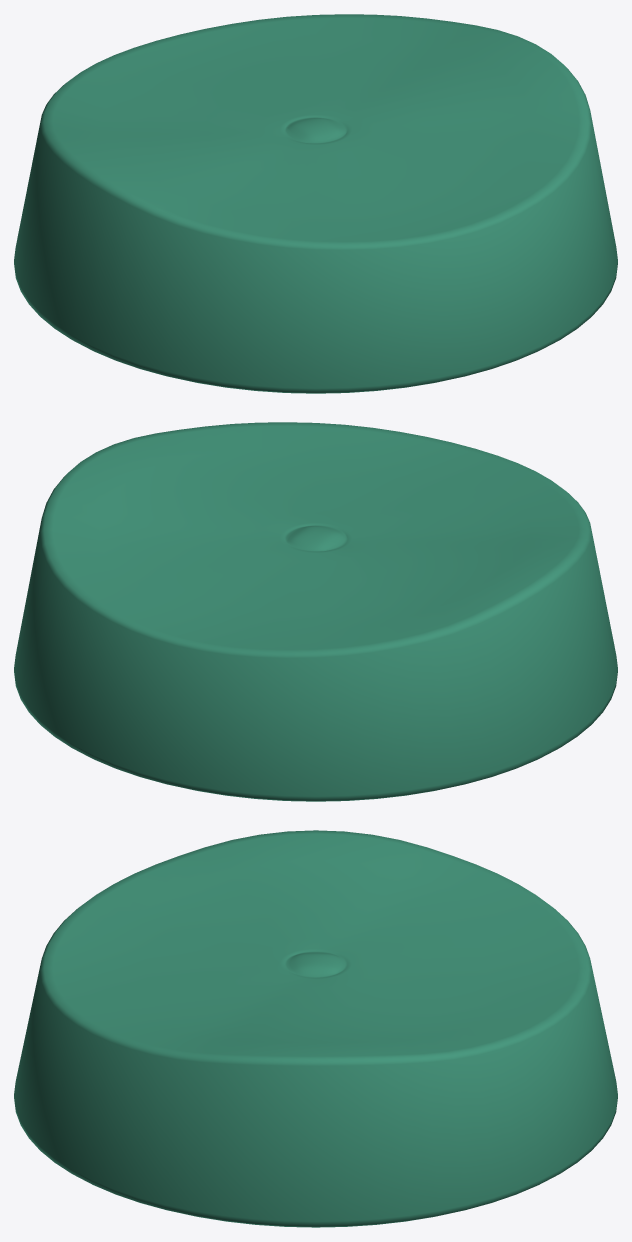
The model's file is MSH_Roof2_OtomanCyan.fbx.
3 renders of one model, top to bottom at view 1: azimuth 30°, elevation 25°; view 2: azimuth 150°, elevation 25°; view 3: azimuth 270°, elevation 25°, orthographic.
Visible parts, largest first — view 1: MSH_Roof2_OtomanCyan; view 2: MSH_Roof2_OtomanCyan; view 3: MSH_Roof2_OtomanCyan.
Part boxes in pixels (x1,y1,x2,y2): MSH_Roof2_OtomanCyan: (14, 14, 617, 393); MSH_Roof2_OtomanCyan: (14, 422, 617, 801); MSH_Roof2_OtomanCyan: (14, 830, 617, 1227).
Bounding box in the file's own units: 85.67 × 28.03 × 85.67.
